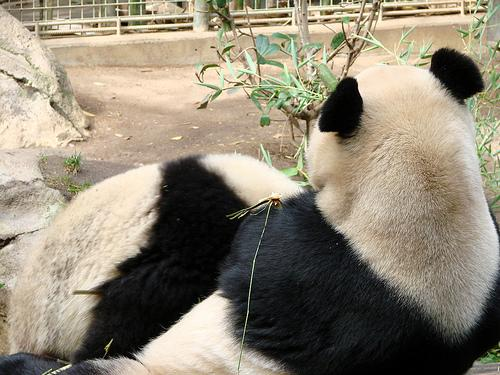panda: (0, 49, 499, 374)
